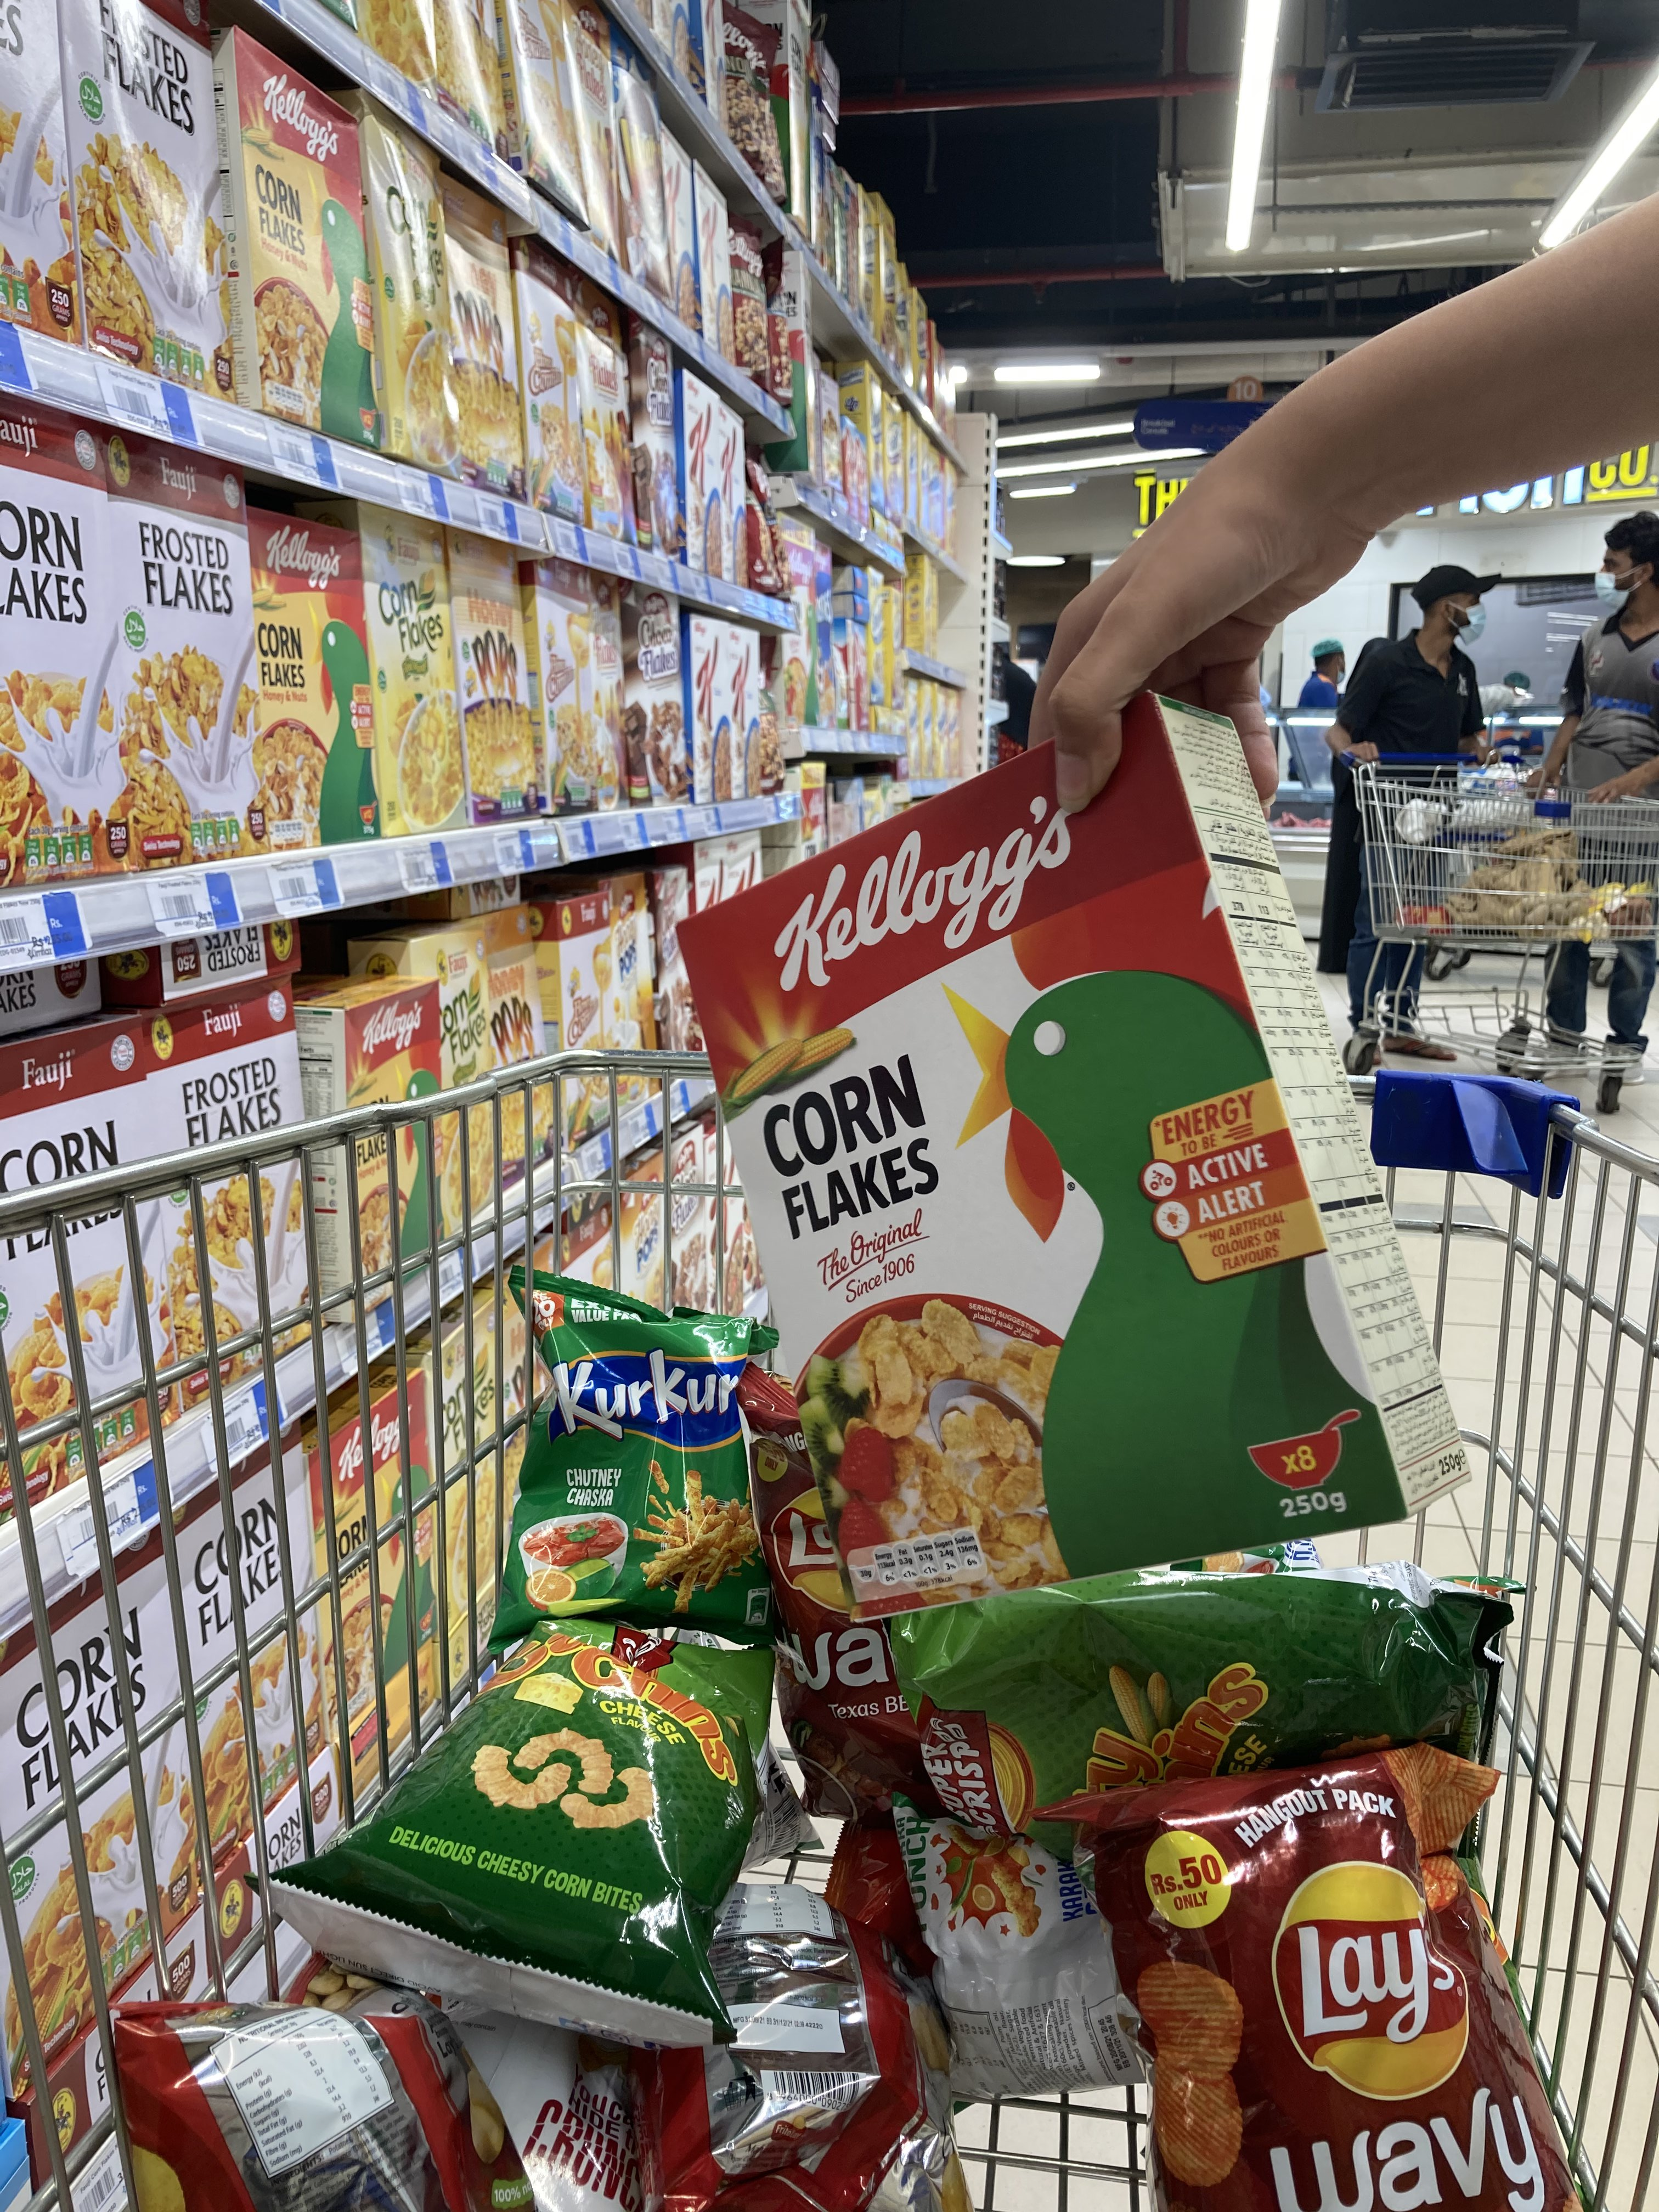Kellogg's Corn Flakes: (676, 705, 1469, 1630)
